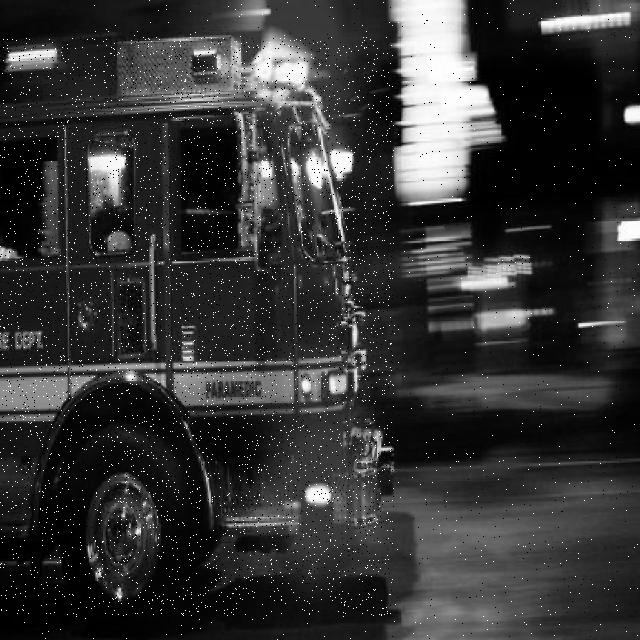Fire Truck: (0, 37, 394, 616)
